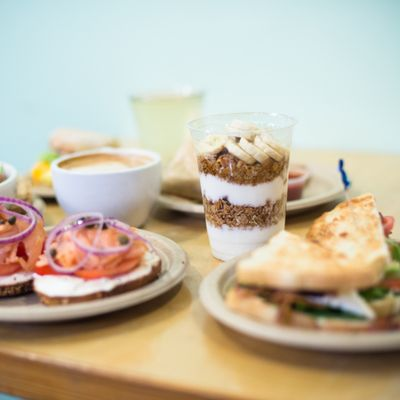pizza: (186, 112, 296, 262), (130, 86, 206, 191)
soup: (222, 194, 400, 332)
sushi: (51, 146, 162, 228), (0, 161, 18, 198)
